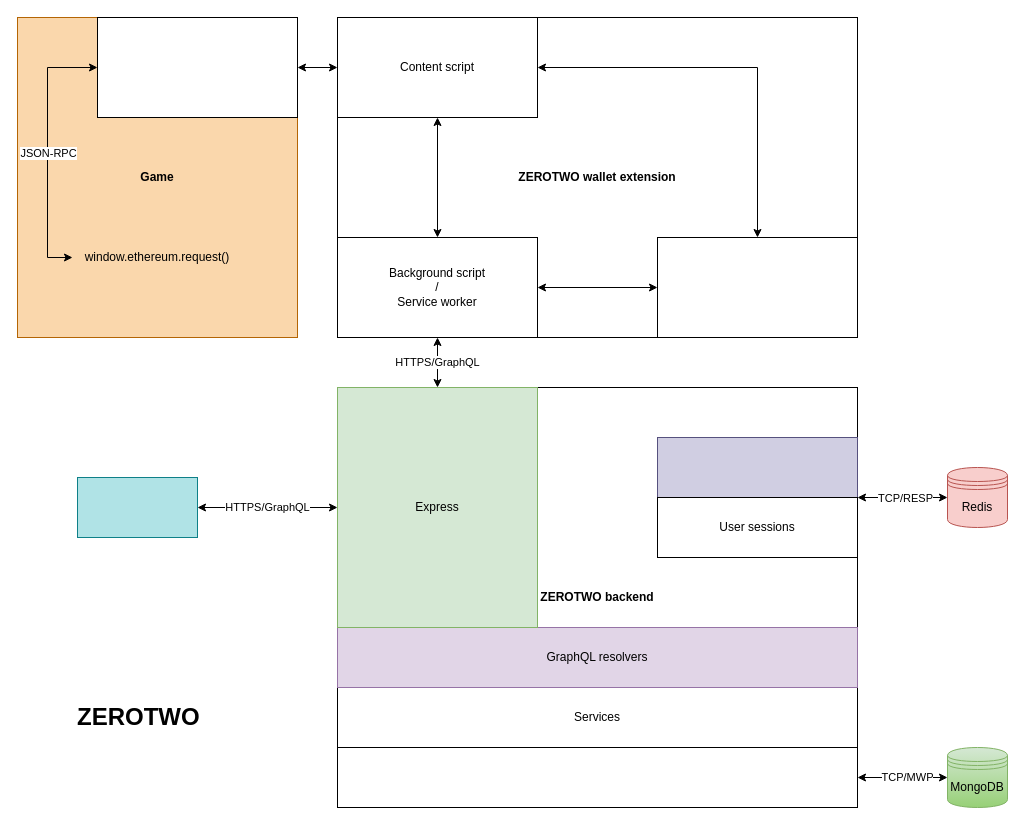
The diagram is 1025 pixels wide and 825 high, and some of its shapes have lost their labels. Here are the shapes that lost their labels. From the top down, the centre of each, then its label:
At (197,67): "Injected script".
At (757,287): "Popup".
At (757,467): "BullMQ workers".
At (137,507): "Lending app".
At (597,777): "Models".
